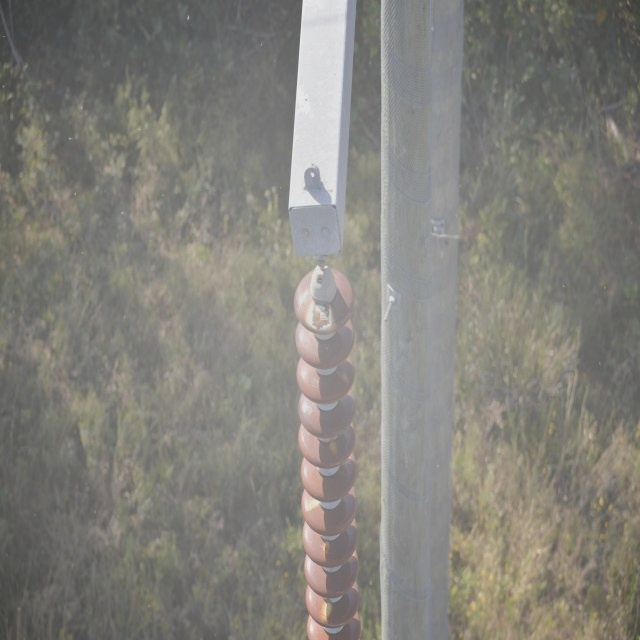insulator: (292, 268, 362, 640)
